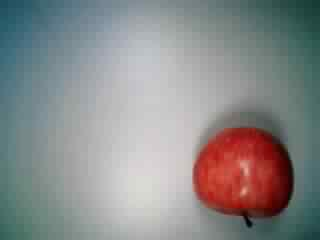apple: (192, 125, 296, 229)
